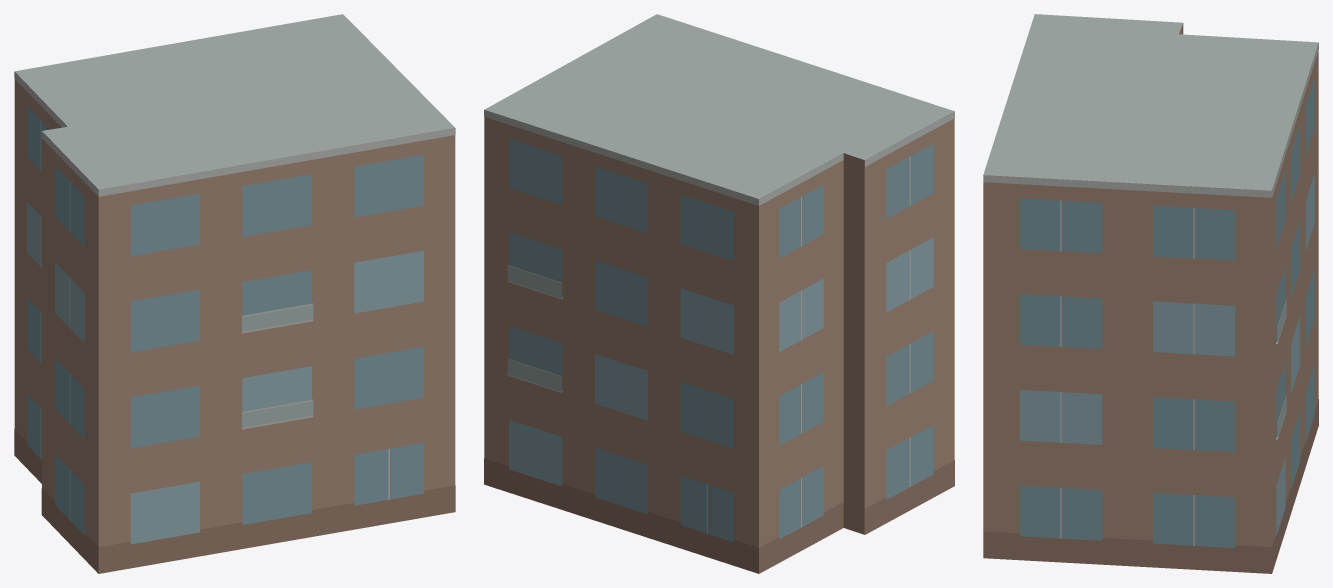
Rendered from survey-upis-33012945.glb.
3 renders of one model, left to right at view 1: azimuth 30°, elevation 25°; view 2: azimuth 150°, elevation 25°; view 3: azimuth 270°, elevation 25°, orthographic. The views are drawn at different scales.
Visible parts, largest first — view 1: survey-upis-33012945.tmp; view 2: survey-upis-33012945.tmp; view 3: survey-upis-33012945.tmp.
Part boxes in pixels (<box>): survey-upis-33012945.tmp: <box>14,14,455,573</box>; survey-upis-33012945.tmp: <box>484,14,954,573</box>; survey-upis-33012945.tmp: <box>983,14,1318,573</box>.
Bounding box in the file's own units: 13.08 × 13.2 × 10.49.
